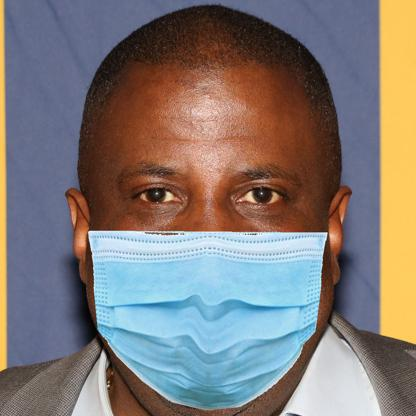mask: (85, 228, 323, 412)
